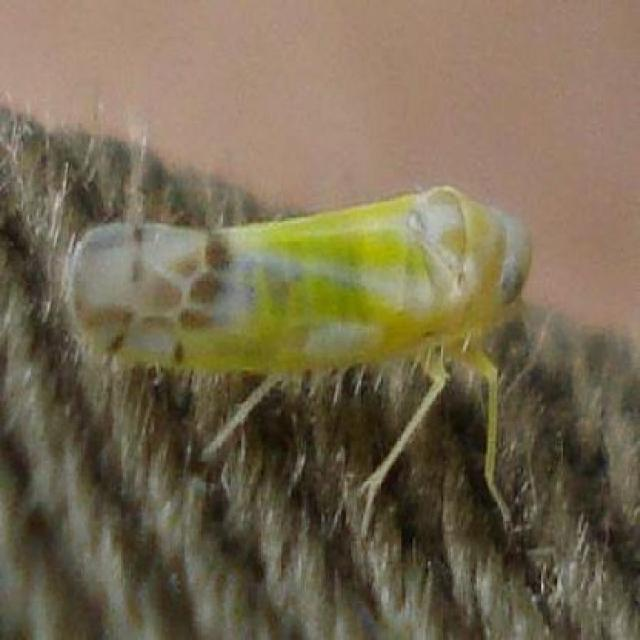green-leafhopper: (80, 180, 537, 392)
